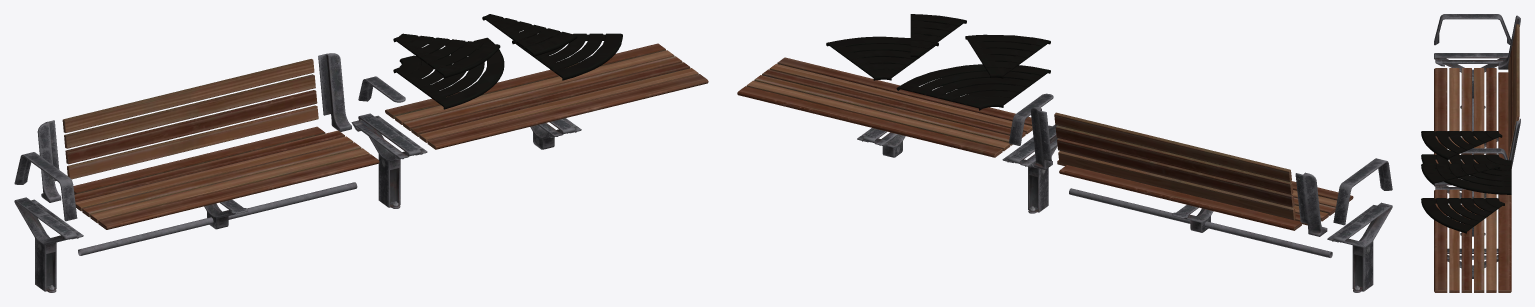
File: modular_street_seating.glb
The picture shows the model from 3 angles, left to right: view 1: azimuth 30°, elevation 25°; view 2: azimuth 150°, elevation 25°; view 3: azimuth 270°, elevation 25°; orthographic projection. The views are drawn at different scales.
Visible parts, largest first — view 1: seat, seat_back, connector_60, legs_double, crossbar; view 2: seat, seat_back, connector_60, crossbar, legs_double; view 3: seat, connector_60, legs_double, crossbar, seat_back.
Part boxes in pixels (box(x1,y1,x2,y2)): seat: box(73, 43, 708, 229); seat_back: box(62, 59, 318, 179); connector_60: box(393, 14, 622, 109); legs_double: box(14, 113, 581, 292); crossbar: box(14, 53, 405, 255); seat: box(737, 57, 1353, 230); seat_back: box(1054, 112, 1295, 220); connector_60: box(826, 14, 1050, 110); crossbar: box(1009, 93, 1392, 257); legs_double: box(857, 124, 1392, 292); seat: box(1434, 68, 1511, 292); connector_60: box(1421, 131, 1511, 233); legs_double: box(1434, 53, 1508, 278); crossbar: box(1434, 14, 1520, 196); seat_back: box(1508, 24, 1519, 157).
Size of the model in its own units: 4.34 by 0.9498 by 0.7704.
4 materials, 4 textured.
